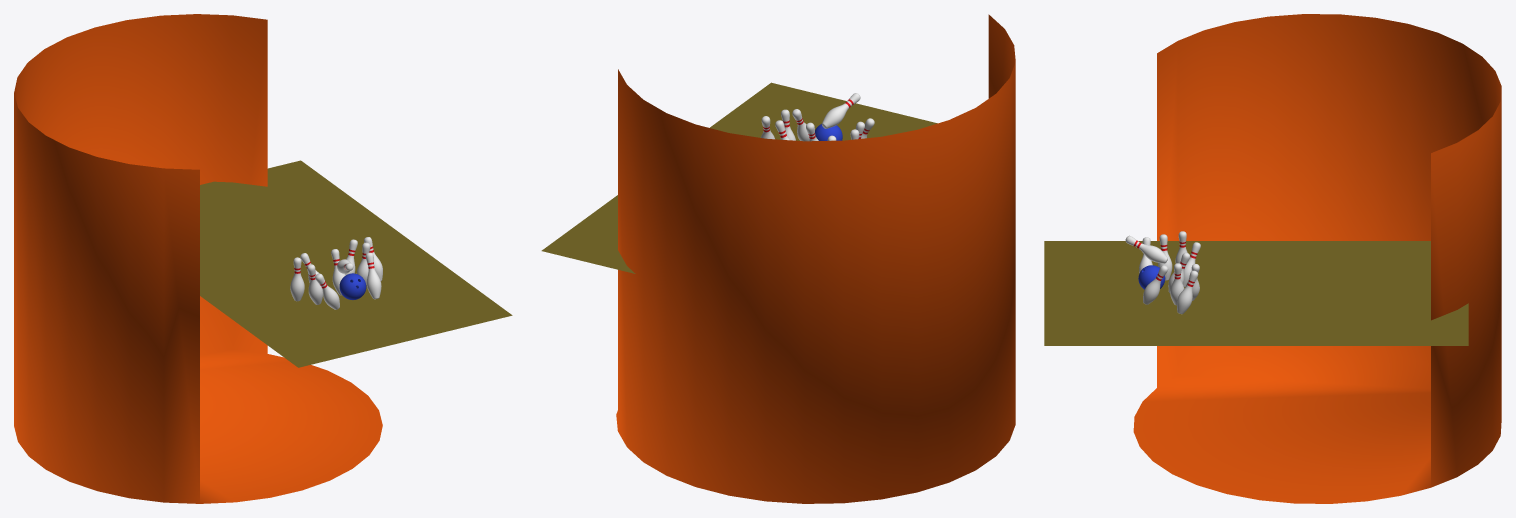
Rendered from uploads_files_2034550_bowling.fbx.
3 views of the same model, side by side, from view 1: azimuth 30°, elevation 25°; view 2: azimuth 150°, elevation 25°; view 3: azimuth 270°, elevation 25° (orthographic). The views are drawn at different scales.
Visible parts, largest first — view 1: Cylinder, Plane.001, bowling ball.001; view 2: Cylinder, Plane.001, Bowling pin.019; view 3: Cylinder, Plane.001.
Part boxes in pixels (x1,y1,x2,y2): Cylinder: (14,14,382,503); Plane.001: (200,160,512,367); bowling ball.001: (339,273,366,299); Cylinder: (616,14,1015,503); Plane.001: (541,82,937,273); Bowling pin.019: (822,93,860,128); Cylinder: (1133,14,1501,503); Plane.001: (1044,241,1468,345).
Bounding box in the file's own units: 314 × 298 × 369.
